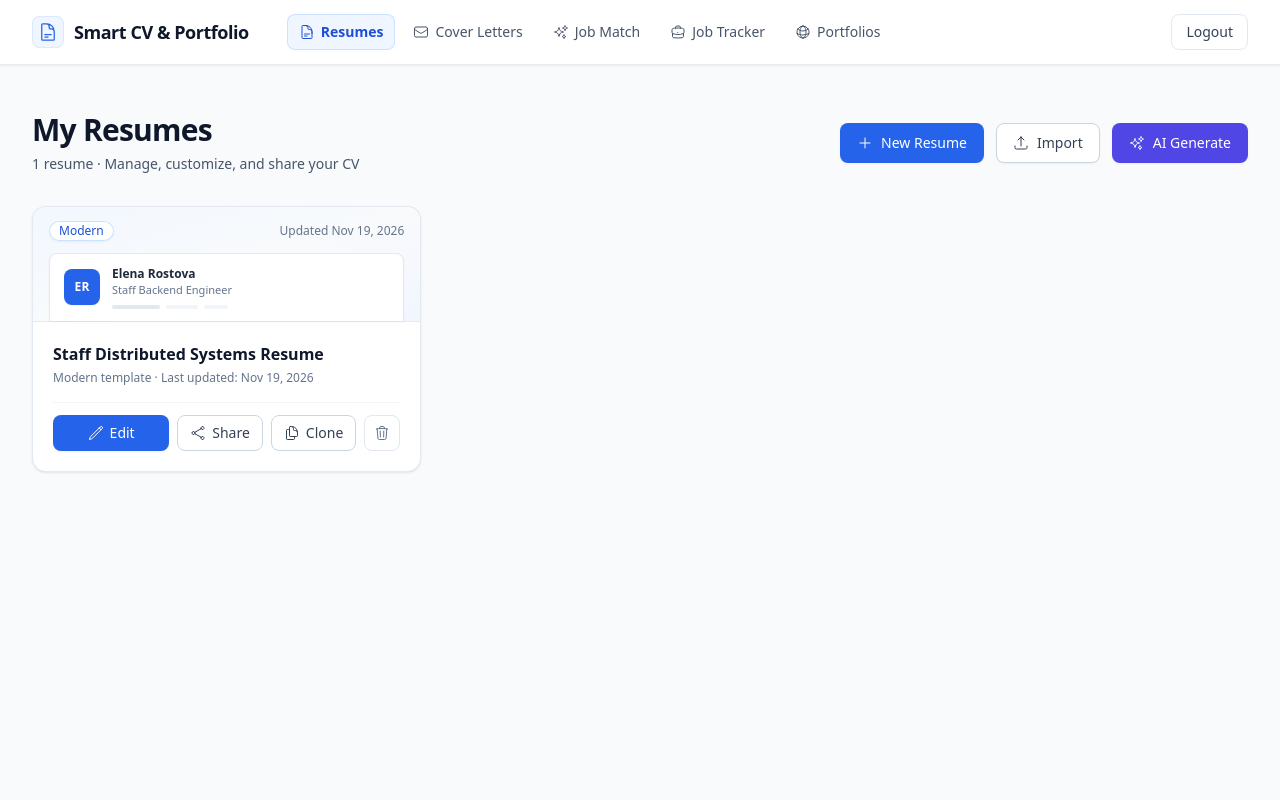
Test: Global Auth Event Bus & In-Place Re-Authentication Flow › opens in-place ReauthModal within 500ms on auto-save 401 without unmounting App/ResumeEditor, updates token on login, and automatically retries pending save wit
# Open resume in ResumeEditor from HomePage list
Click the button "Edit" at (111, 432), box [53,414,169,450]
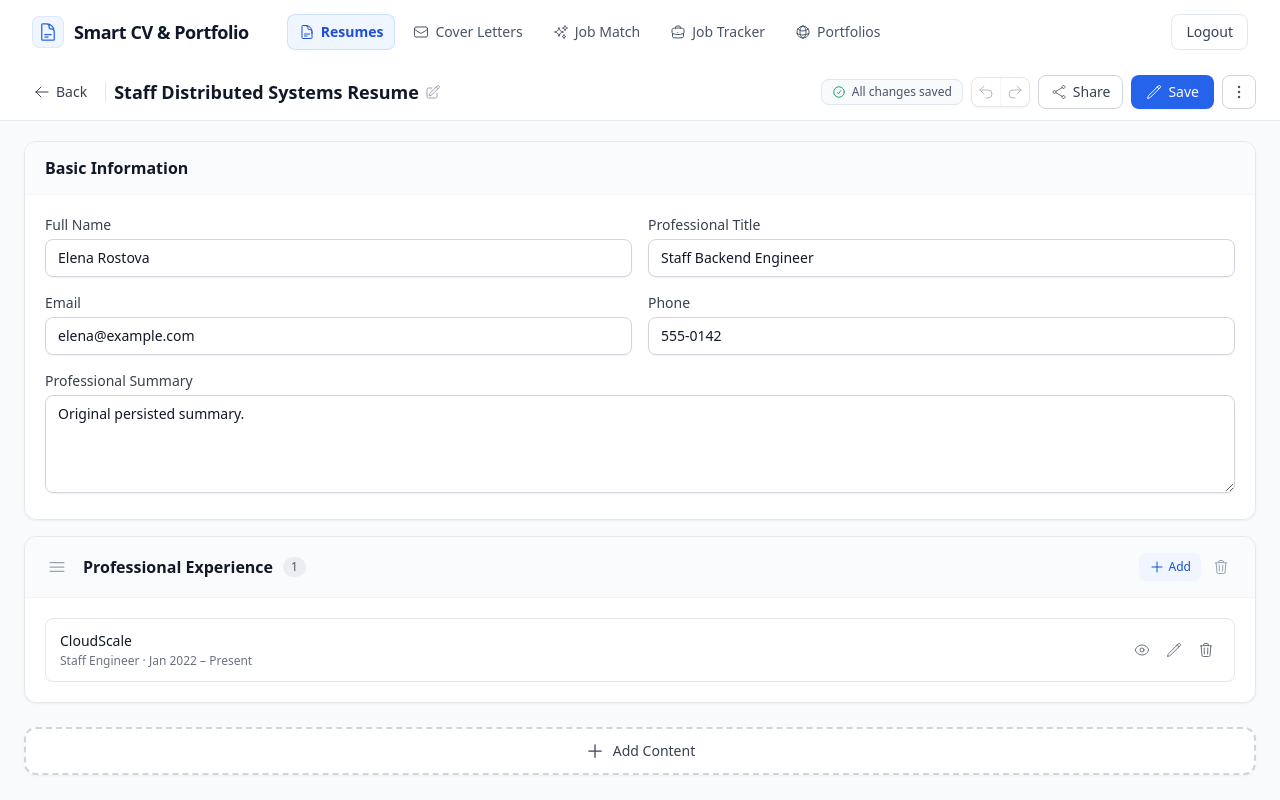
# Make uncommitted edits in the editor
Replace the text in the field labelled "Full Name" with "Elena Rostova, Ph.D." at (338, 258), box [45,239,632,277]
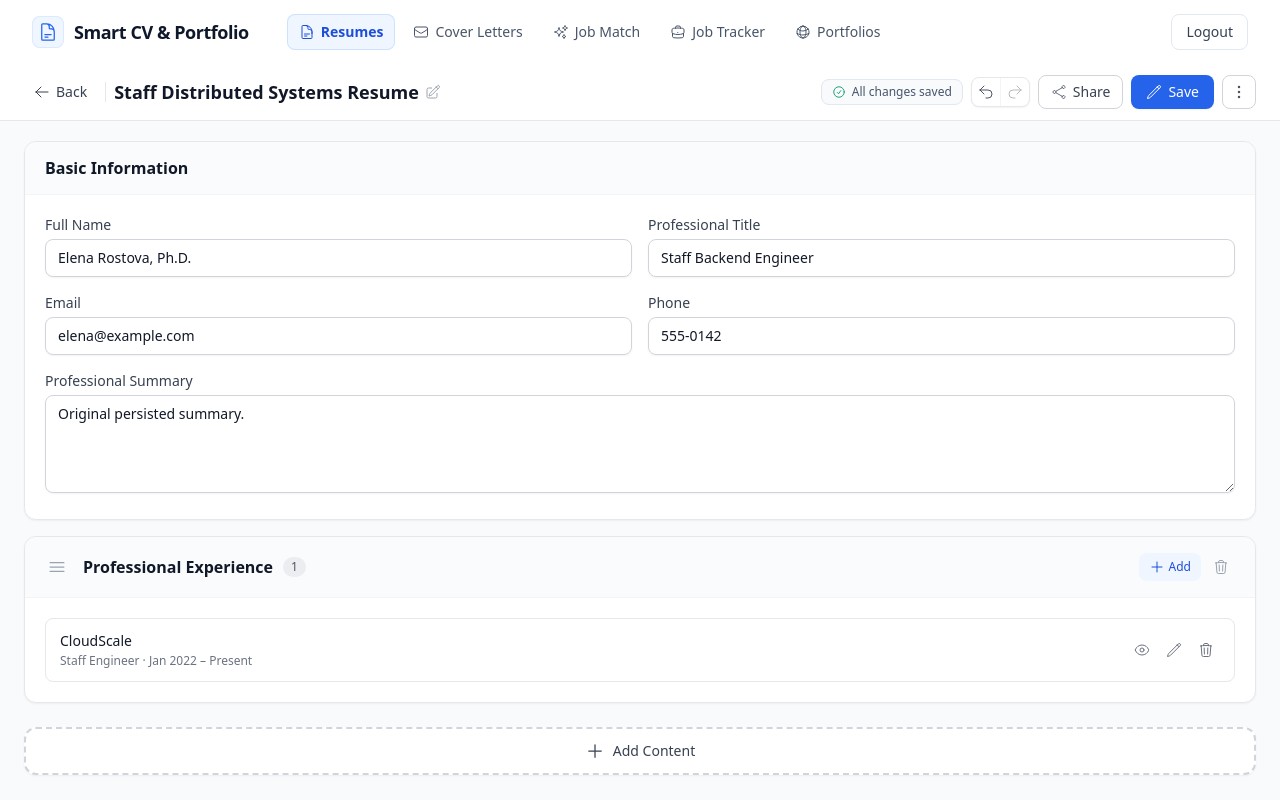
Replace the text in the text box labelled "Professional Summary" with "Uncommitted high-impact summary written right before token expiry." at (640, 444), box [45,395,1235,493]
Wait 2000 ms
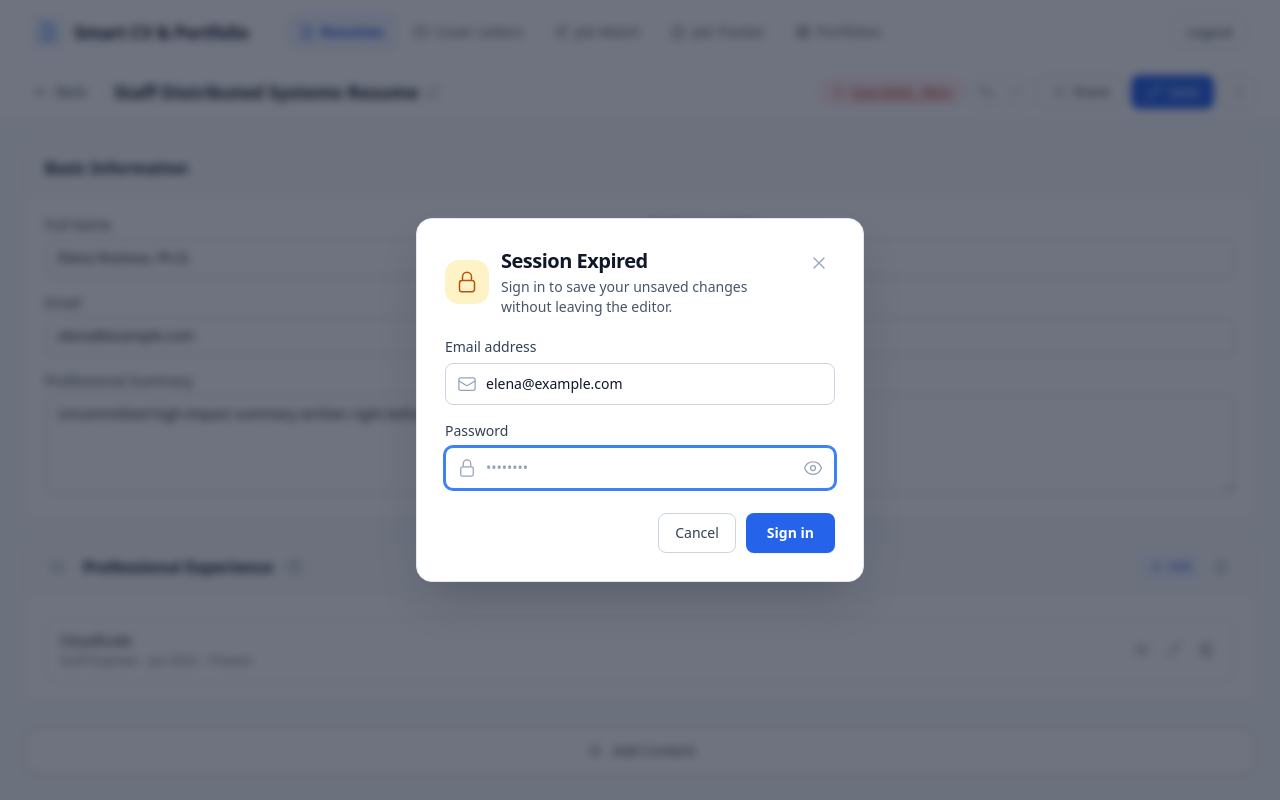
Check: the number of dialogs is 1, box [416,218,864,582]
Check: the heading "Session Expired" is shown, box [501,247,648,274]
Check: the field labelled "Email address" holds "elena@example.com", box [445,363,835,405]
Type "StrongPass!2026" into the password field labelled "Password" at (640, 468), box [445,447,835,489]
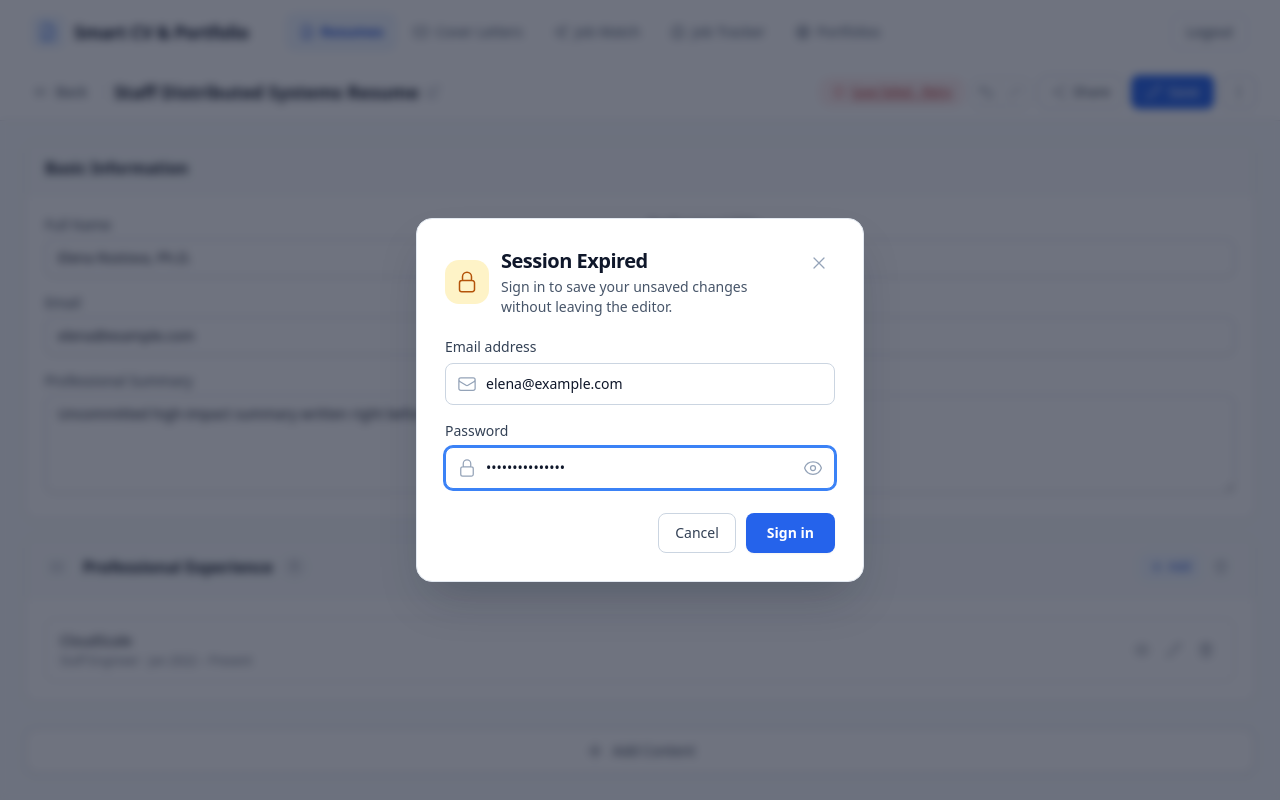
Click the button "Sign in" at (790, 533), box [746,513,835,553]
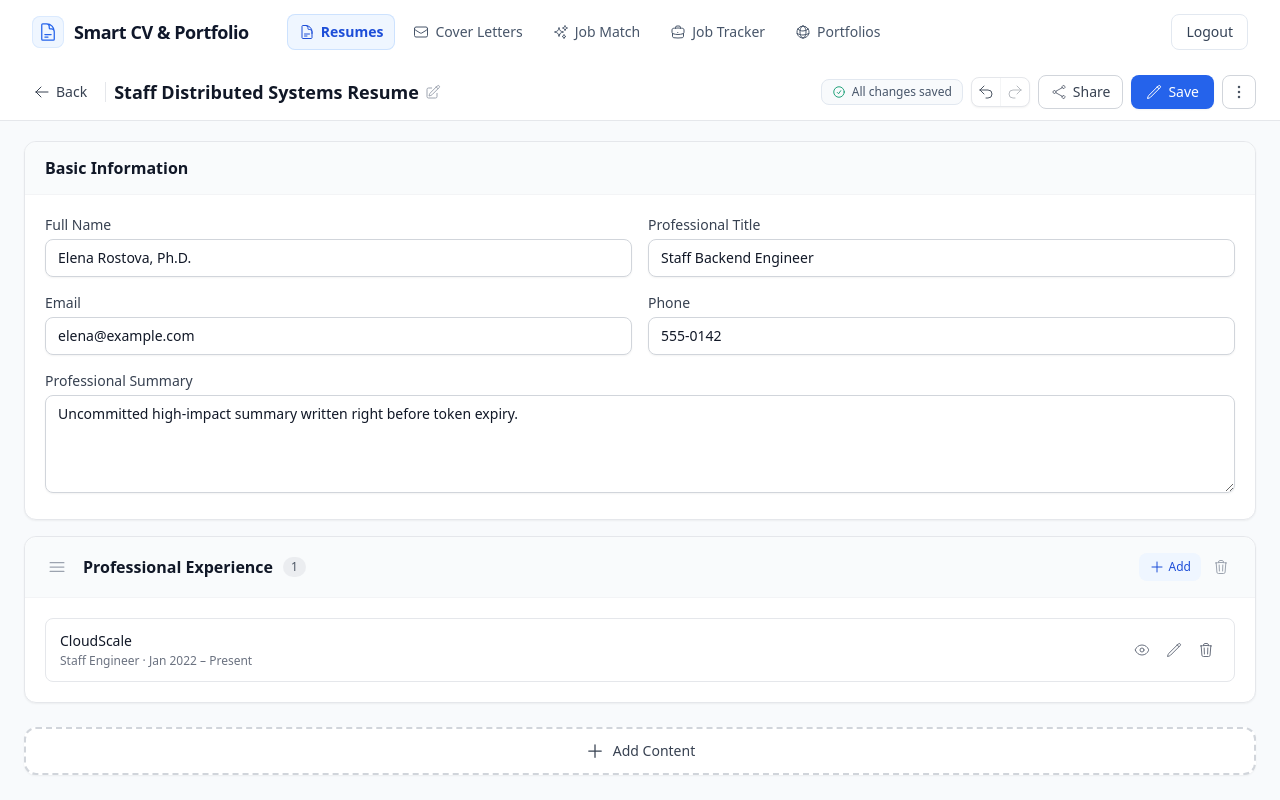
Check: the dialog with test id "reauth-modal" is gone
Check: the message with test id "save-status-indicator" reads "All changes saved", box [852,83,952,100]
